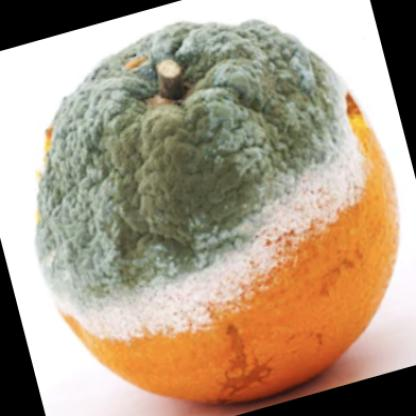rotten: (36, 24, 400, 404)
